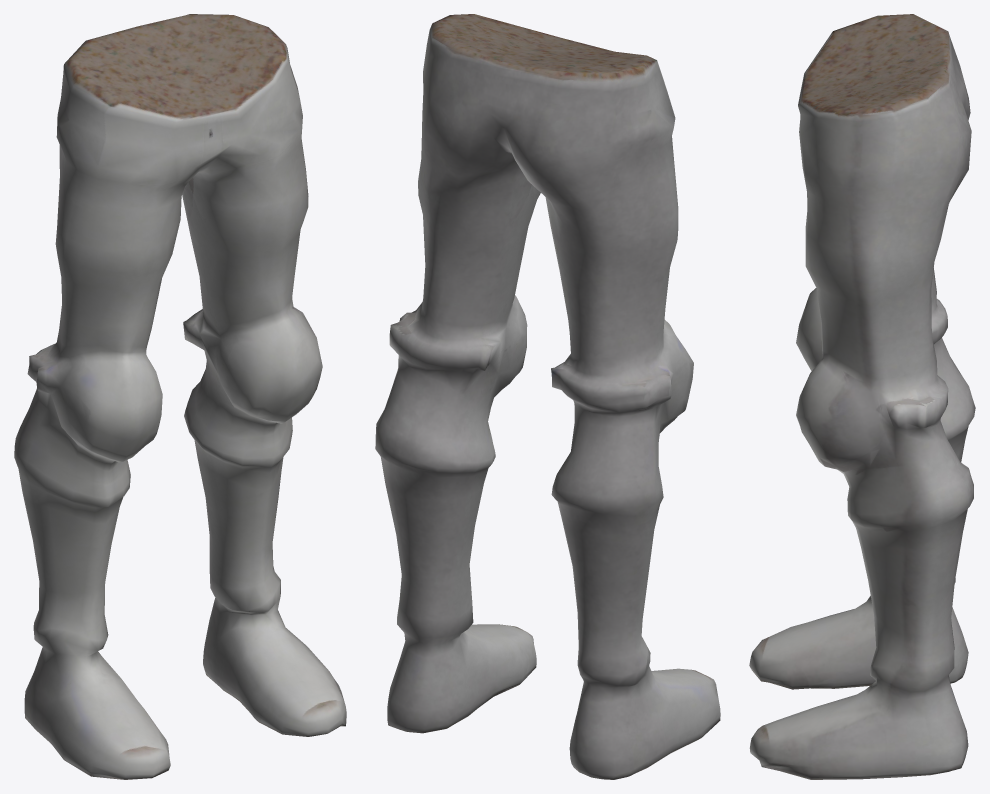
Rendered from legs-metal-base-01.glb.
3 renders of one model, left to right at view 1: azimuth 30°, elevation 25°; view 2: azimuth 150°, elevation 25°; view 3: azimuth 270°, elevation 25°, orthographic. The views are drawn at different scales.
Visible parts, largest first — view 1: file1; view 2: file1; view 3: file1.
Part boxes in pixels (<box>): file1: <box>14,14,346,779</box>; file1: <box>375,14,720,779</box>; file1: <box>749,14,975,779</box>.
Bounding box in the file's own units: 0.8389 × 2 × 0.6168.
Materials: 1 (1 with a texture image).
